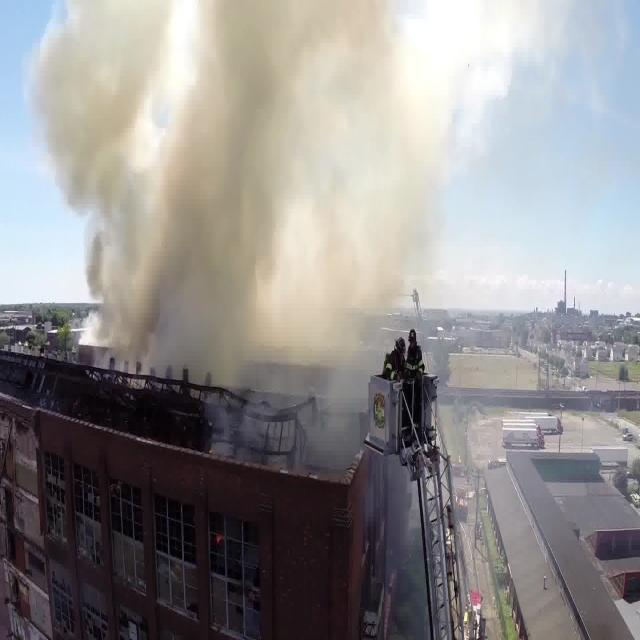Smoke: (29, 2, 576, 392)
